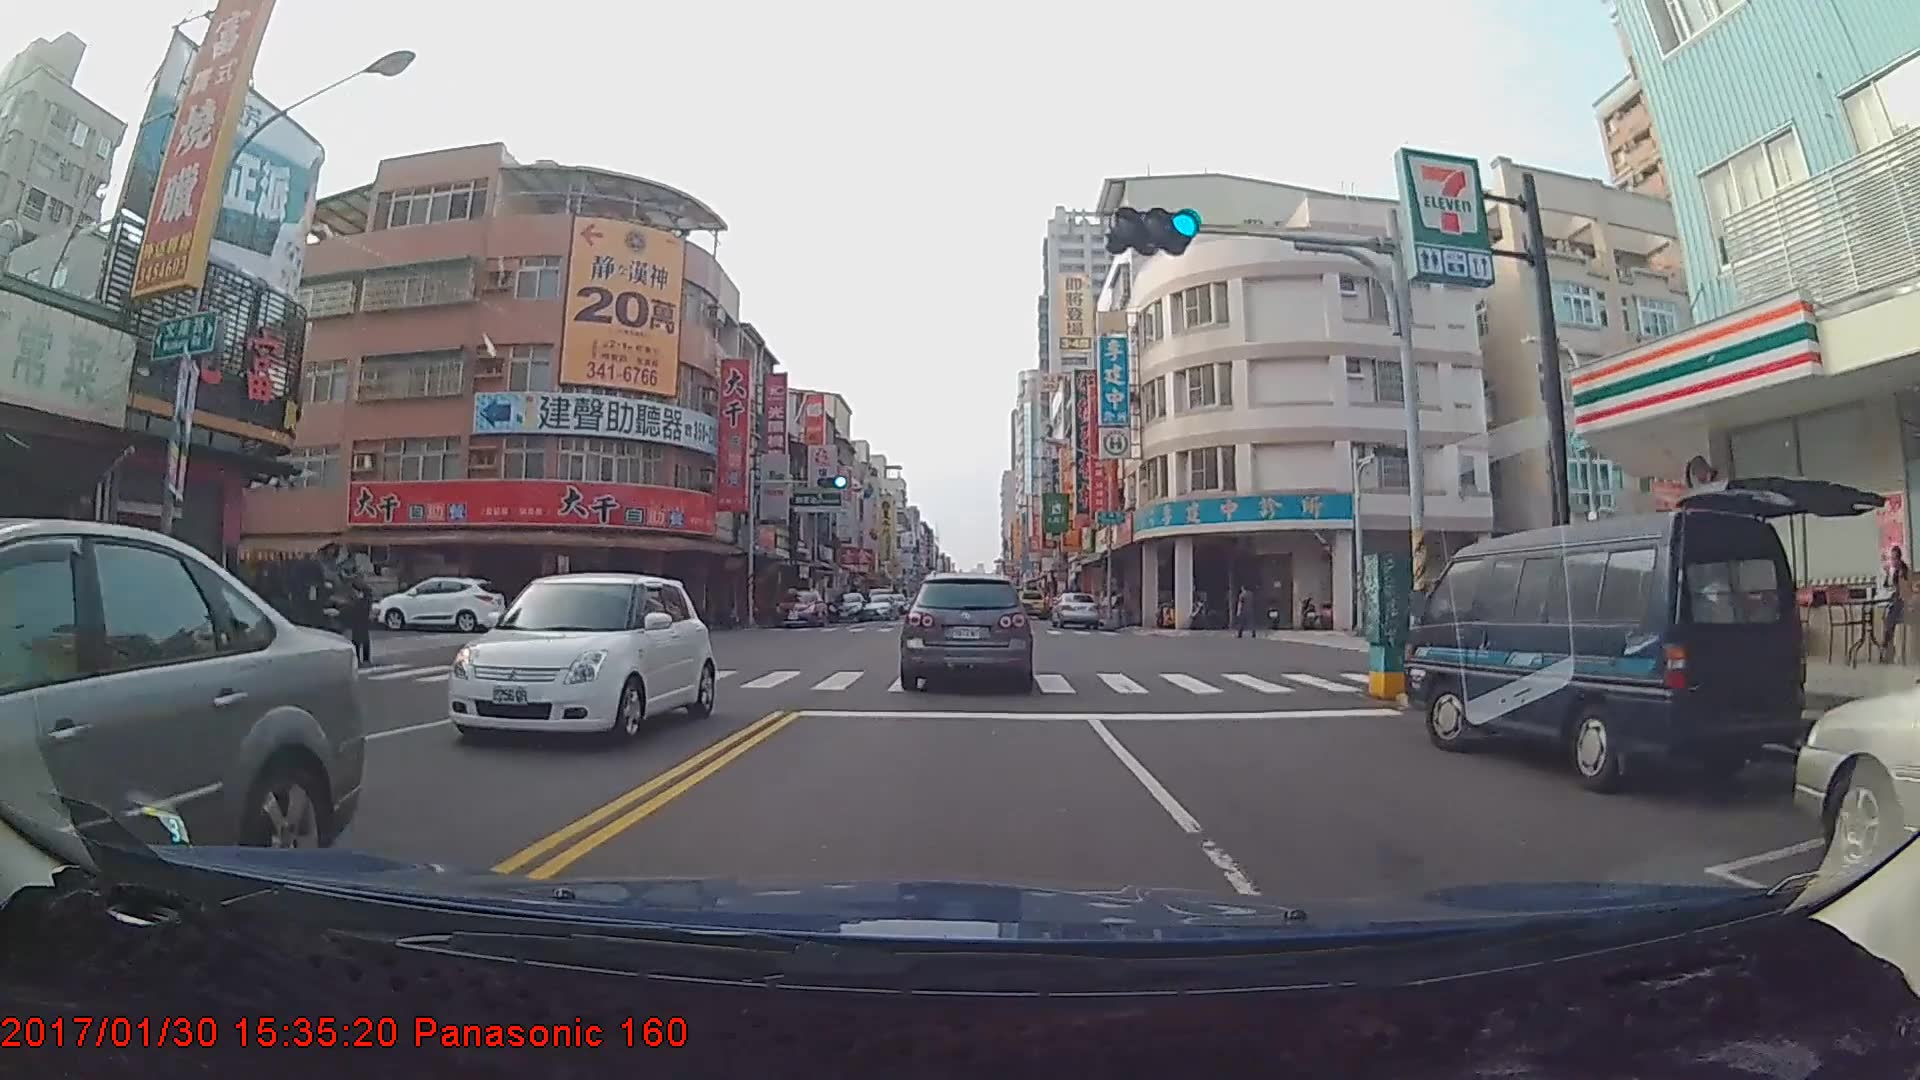pedestrian: (350, 582, 376, 667), (1236, 584, 1258, 640)
vehicle: (0, 514, 367, 929), (1402, 506, 1807, 793), (443, 564, 714, 746), (1783, 579, 1920, 927), (900, 570, 1032, 690), (373, 573, 505, 631), (1049, 589, 1101, 631), (773, 587, 823, 628), (828, 589, 867, 618), (1011, 582, 1045, 615), (861, 591, 899, 619)
